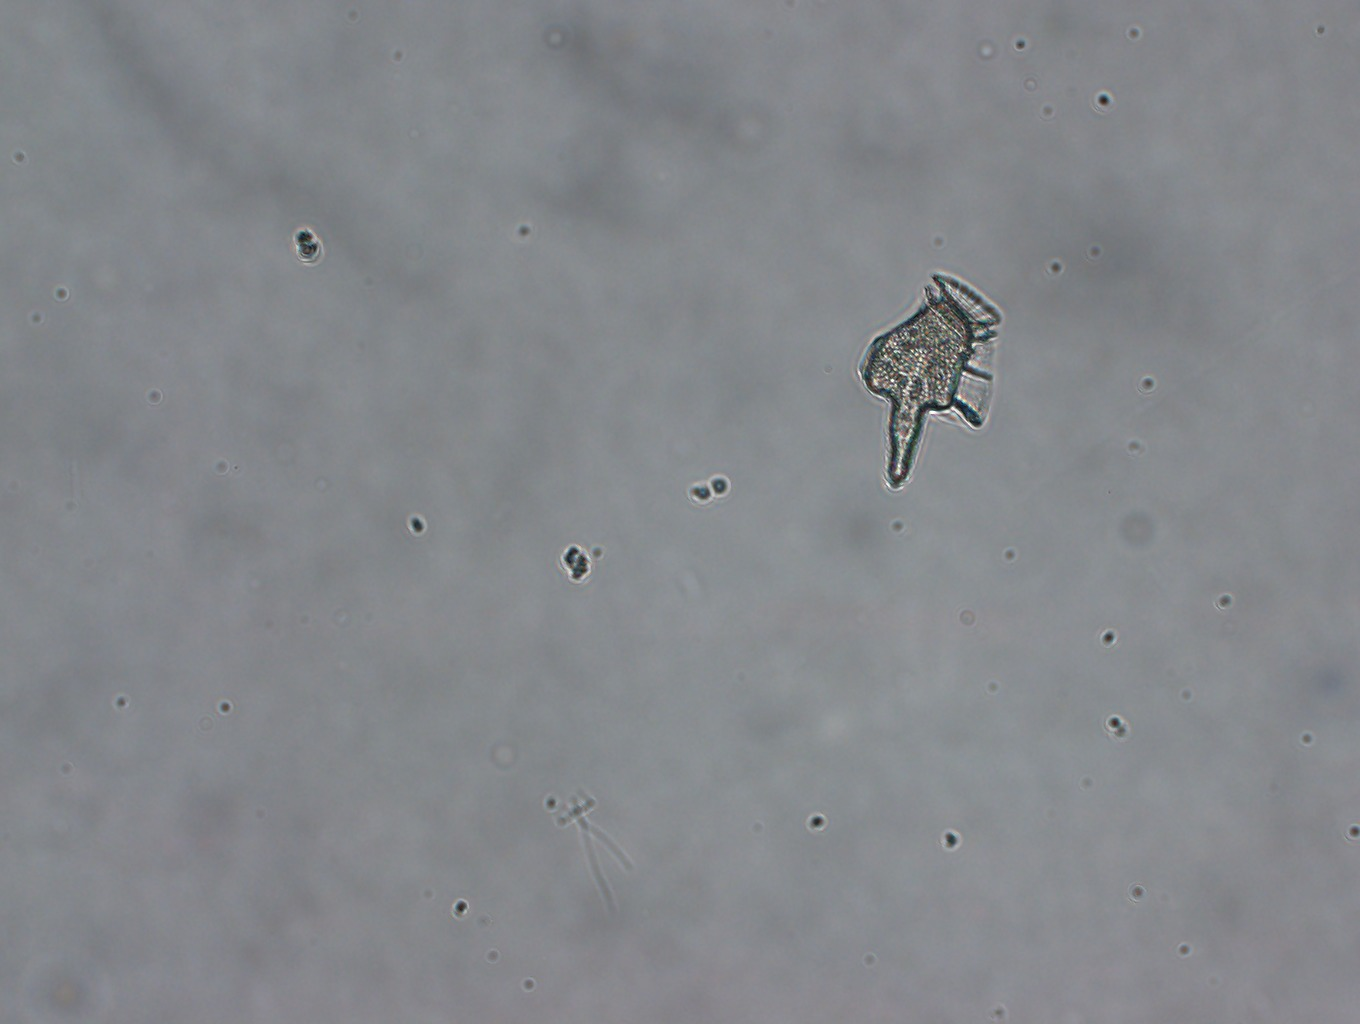dinophysis caudata: (848, 264, 1008, 498)
